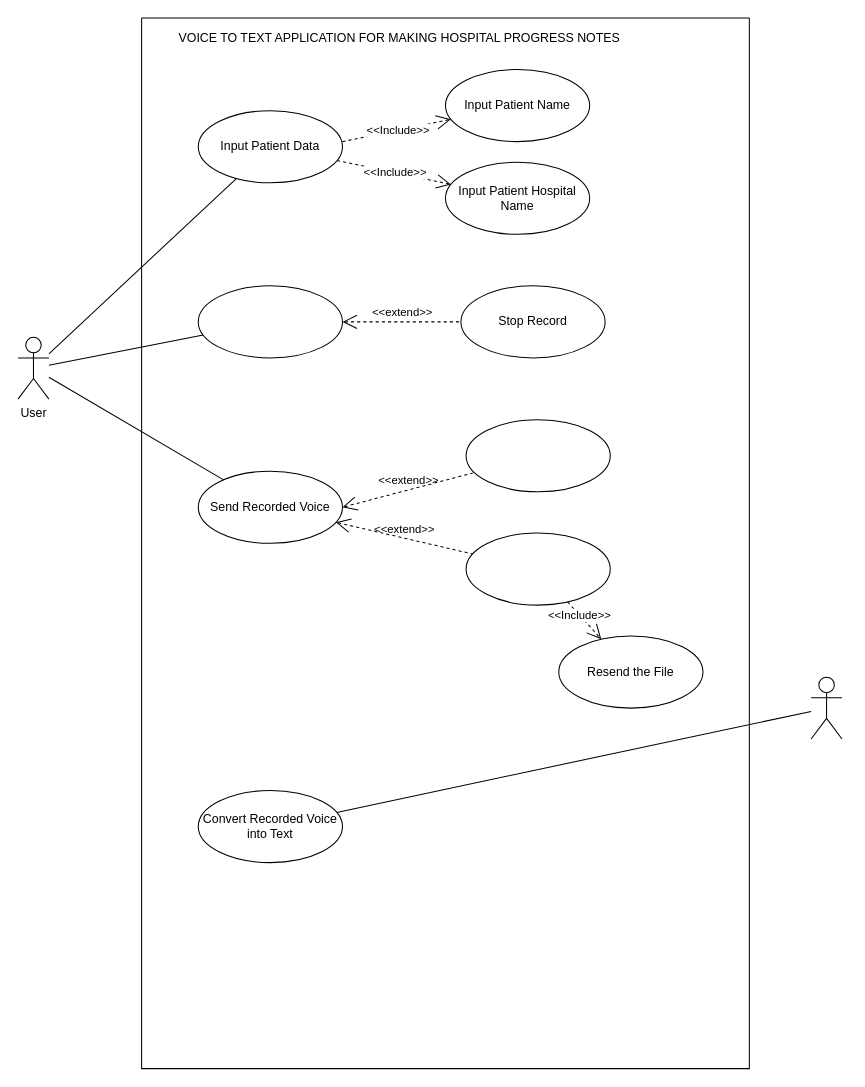
Some shapes in this 865 by 1087 pixel diagram are drawn without their labels. Each missing label, with the centre of its shape:
"Error Message" goes at (537,568).
"Record Voice" goes at (269,321).
"System" goes at (826,707).
"Verify Sended Recorded Voice" goes at (537,455).
